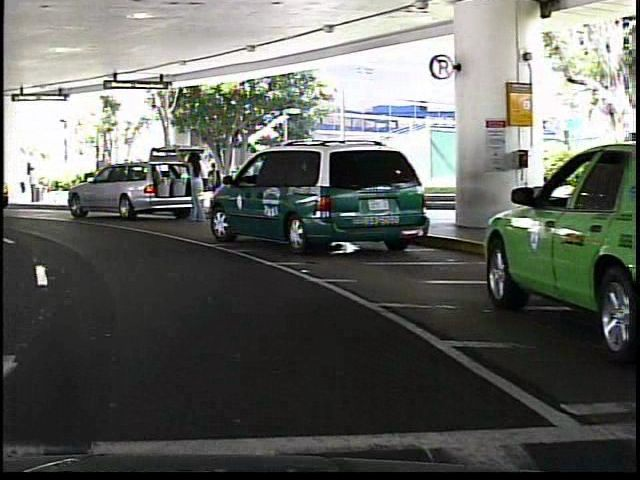person: (183, 155, 222, 213), (184, 148, 203, 227), (89, 149, 112, 202)
